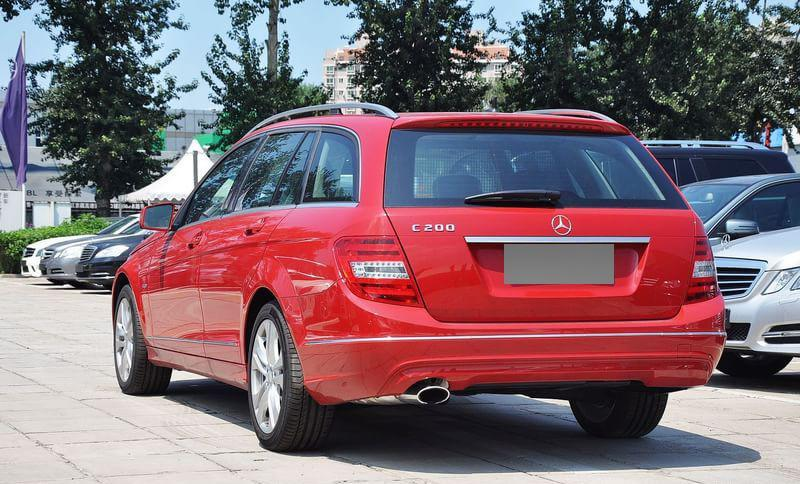Wagon: (110, 99, 727, 452)
